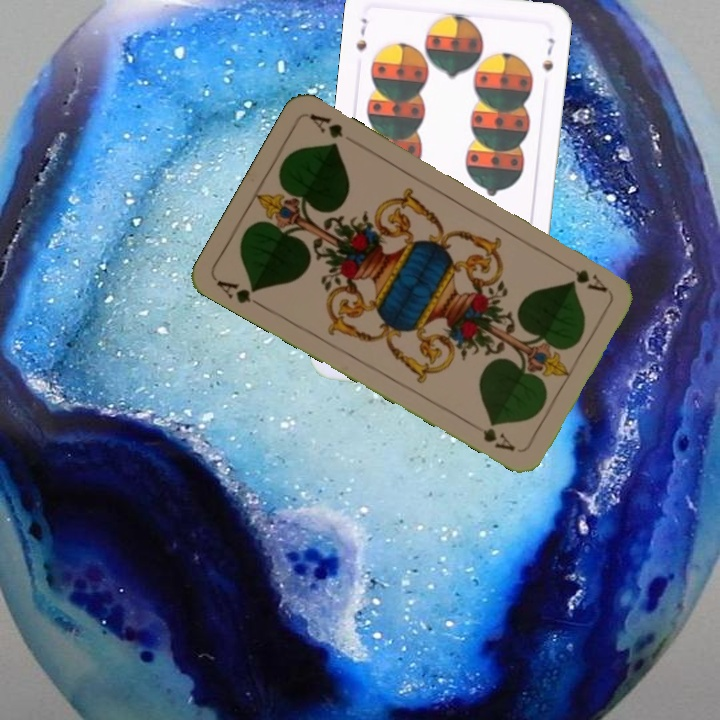GA: (212, 275, 267, 311), (558, 257, 610, 295)
S7: (352, 14, 371, 55)
